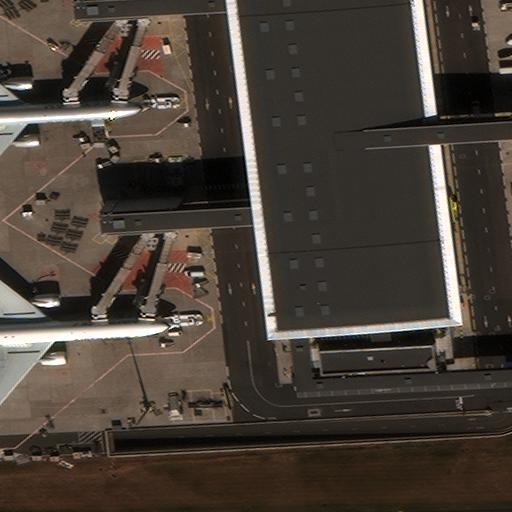Large Civil Transport: (0, 261, 175, 419), (0, 53, 149, 188)
